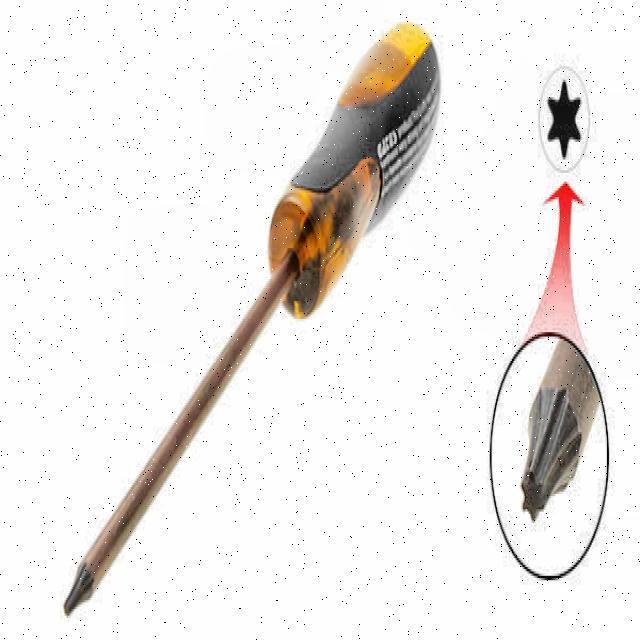screwdriver: (63, 22, 440, 617)
